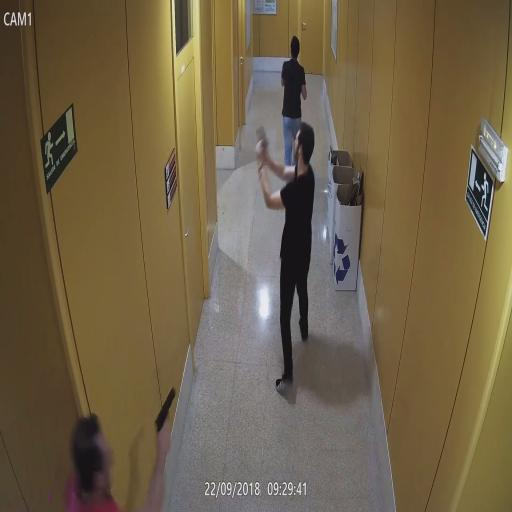Handgun: (155, 384, 177, 455), (254, 124, 270, 166)
